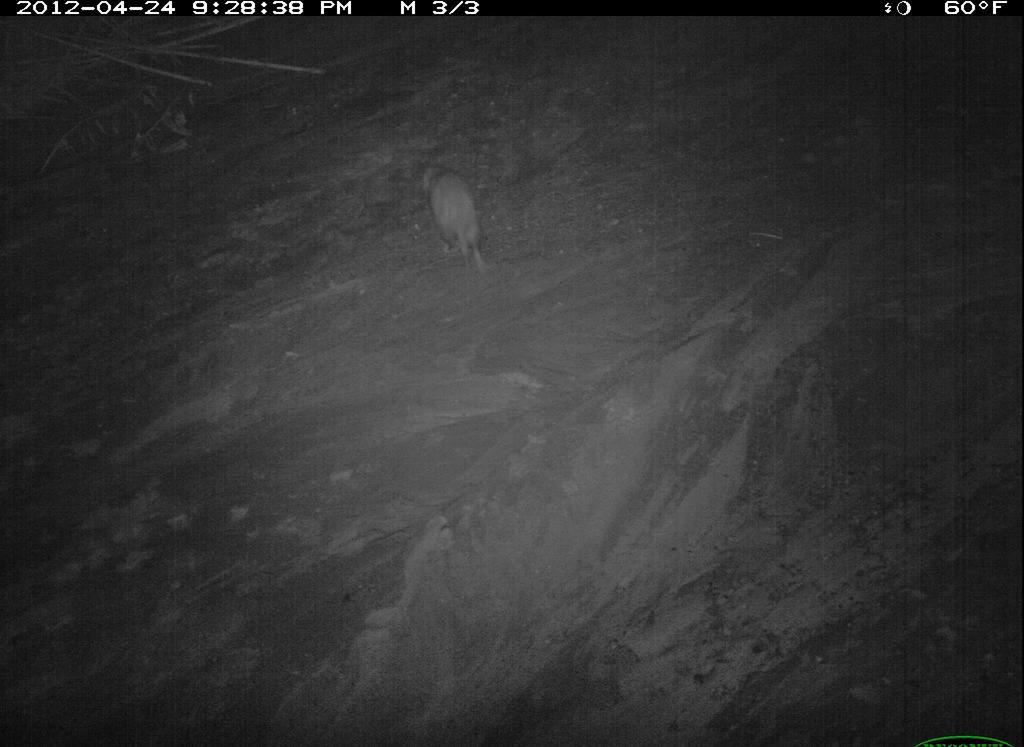opossum: (835, 321, 997, 552)
